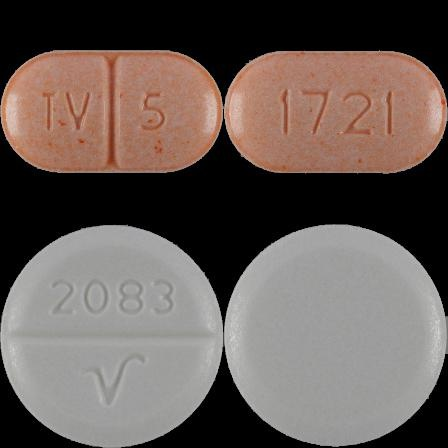70786-1721: (0, 0, 224, 224)
